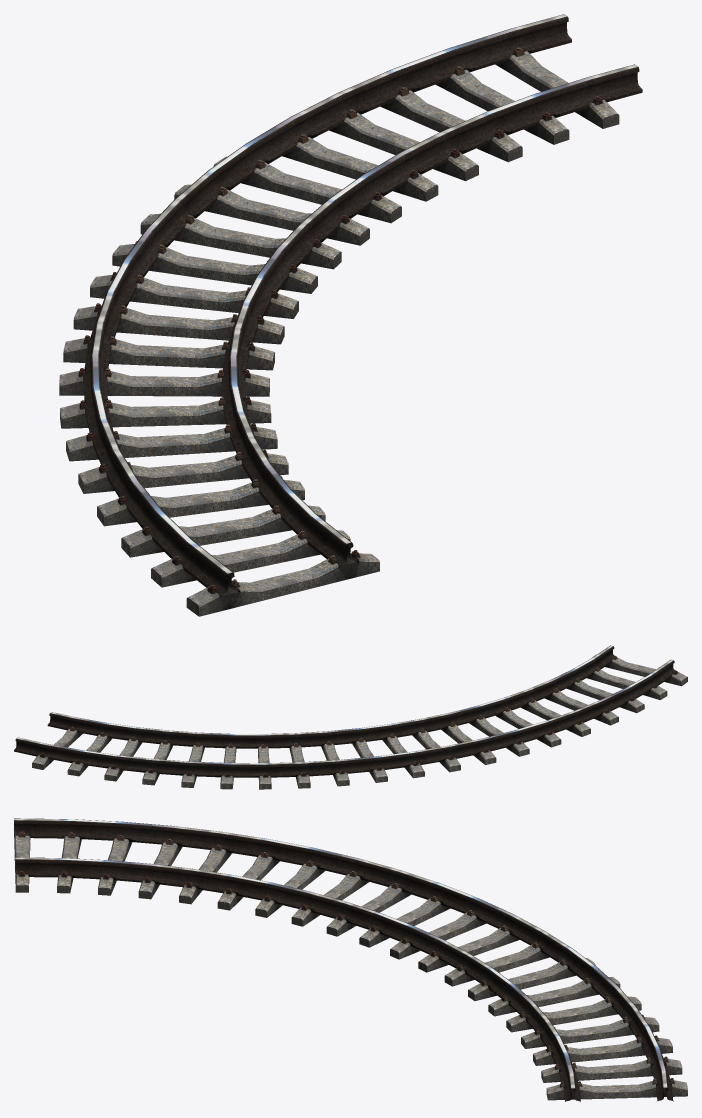
Rendered from Beton_rail_-90.FBX.
3 renders of one model, top to bottom at view 1: azimuth 30°, elevation 25°; view 2: azimuth 150°, elevation 25°; view 3: azimuth 270°, elevation 25°, orthographic. The views are drawn at different scales.
Visible parts, largest first — view 1: Beton_rail_-90_LOD0; view 2: Beton_rail_-90_LOD0; view 3: Beton_rail_-90_LOD0.
Boxes of the visible parts, box(x1,y1,x2,y2) form: Beton_rail_-90_LOD0: box(59, 14, 642, 616); Beton_rail_-90_LOD0: box(14, 645, 687, 789); Beton_rail_-90_LOD0: box(14, 818, 687, 1101).
Size of what is drawn, in the model's own units: 11.86 by 12.1 by 0.4774.
